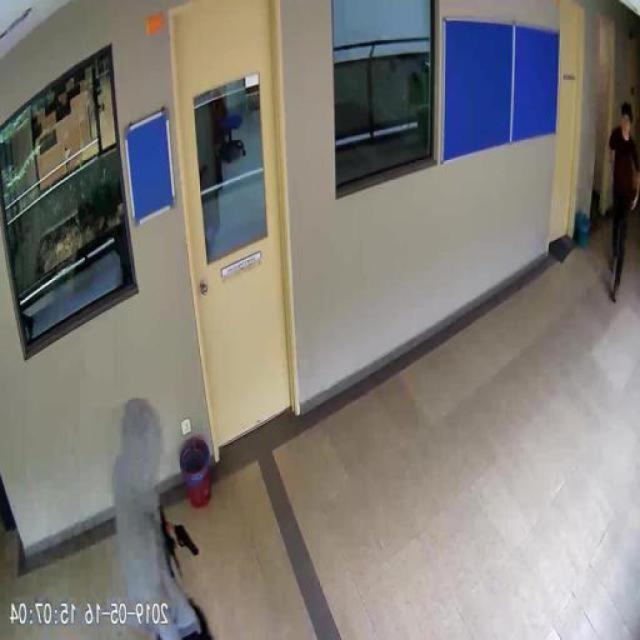pistol: (170, 522, 200, 556)
